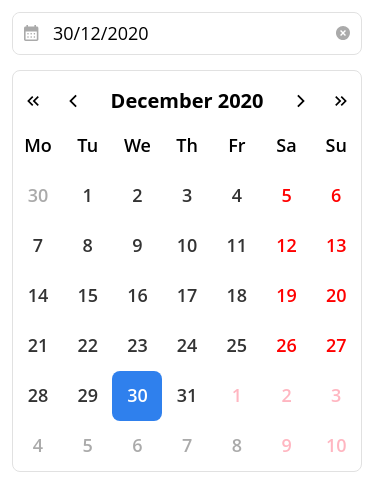
Test: DatePicker › select next year on month change
Step 1. Click the button with test id "next-month" → point(301, 101), box [281,81,321,121]
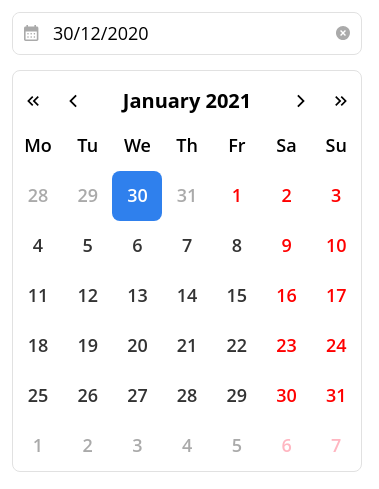
Expected: the text with test id "calendar-type" reads "January 2021", [123,87,251,114]
